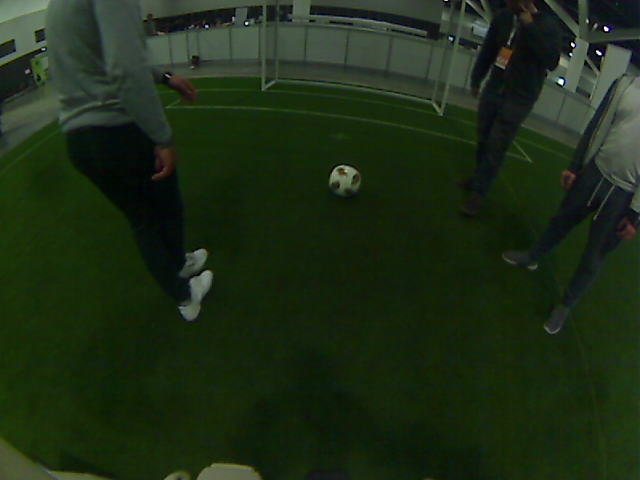ball: (325, 160, 365, 200)
goalpost: (423, 56, 463, 116), (244, 30, 284, 90)
